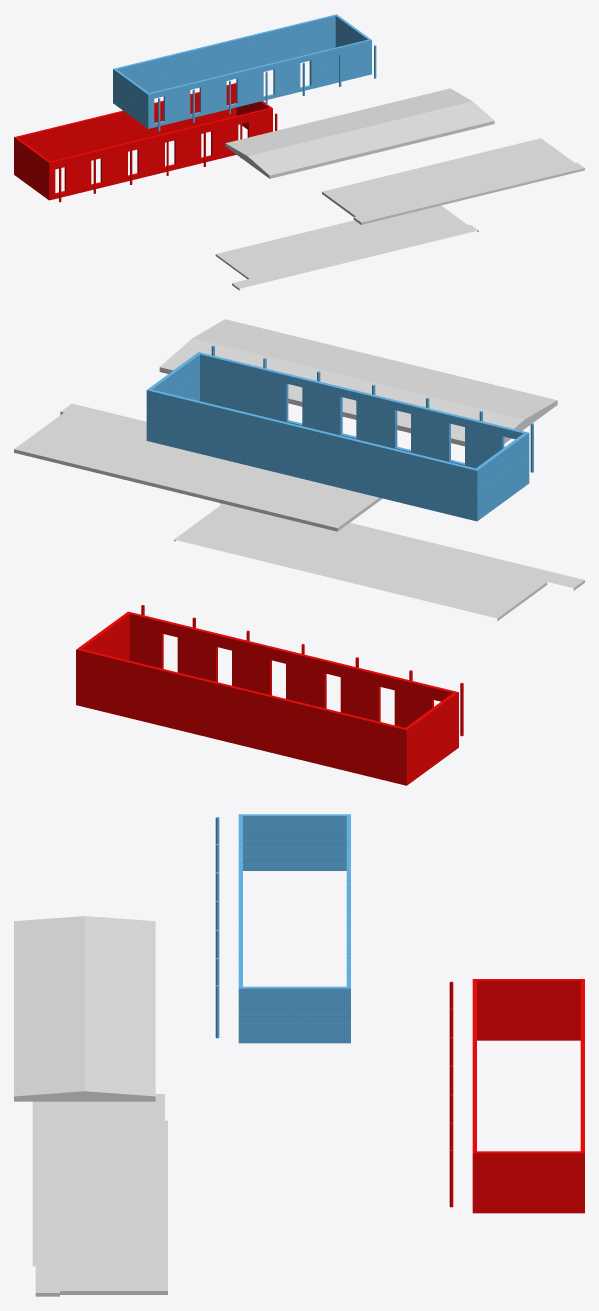
3 views of the same model, one above another, from view 1: azimuth 30°, elevation 25°; view 2: azimuth 150°, elevation 25°; view 3: azimuth 270°, elevation 25° (orthographic). The views are drawn at different scales.
Parts seen in each view (by area): view 1: Rectangle07, Rectangle03, Line03, Rectangle02, Rectangle05; view 2: Rectangle03, Rectangle07, Rectangle05, Rectangle02, Line03; view 3: Line03, Rectangle02, Rectangle03, Rectangle07, Rectangle05.
Boxes of the visible parts, x1,y1,x2,y2 form: Rectangle07: (113, 14, 376, 131); Rectangle03: (14, 83, 277, 202); Line03: (225, 88, 494, 178); Rectangle02: (322, 138, 584, 224); Rectangle05: (215, 205, 478, 290); Rectangle03: (76, 605, 463, 785); Rectangle07: (146, 345, 533, 521); Rectangle05: (174, 503, 584, 620); Rectangle02: (14, 403, 382, 531); Line03: (159, 319, 557, 446); Line03: (14, 916, 155, 1101); Rectangle02: (35, 1118, 167, 1296); Rectangle03: (449, 979, 584, 1213); Rectangle07: (215, 814, 350, 1043); Rectangle05: (32, 1094, 164, 1266).
Size of the model in its own units: 3333 by 1240 by 2589.
Materials: 2 (1 with a texture image).
